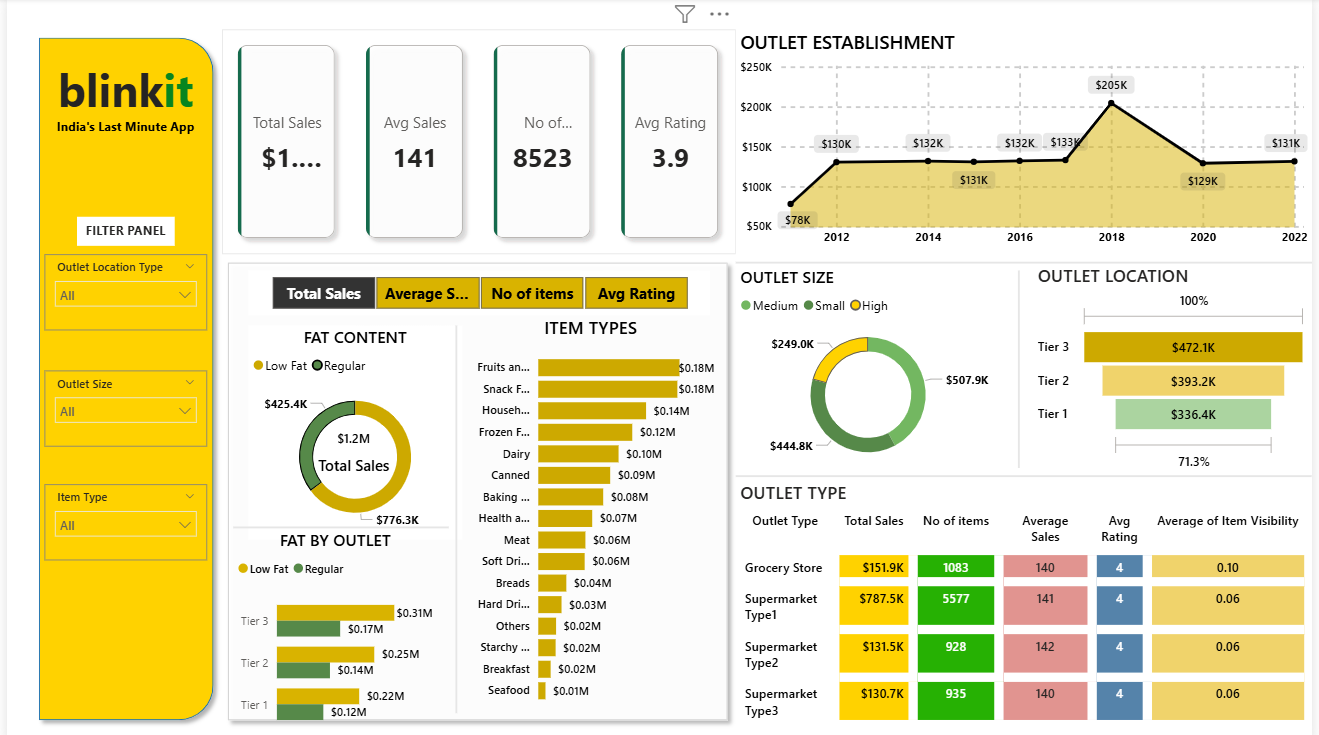

What the dashboard file says about the page in this screenshot:
{"tool":"powerbi","page":{"name":"Page 1","canvas":[1400,800],"ordinal":0},"visuals":[{"type":"shape","box":[25.5,33,205,750],"z":0},{"type":"textbox","box":[40.5,60,174.1,81],"z":1000},{"type":"textbox","box":[40.5,123.1,174.1,34.5],"z":2000},{"type":"cardVisual","fields":{"Data":["BlinkIT Grocery Data.Total Sales","BlinkIT Grocery Data.Average Sales","BlinkIT Grocery Data.No of items","BlinkIT Grocery Data.Avg Rating"]},"box":[231.1,33,550.8,241.6],"z":3000},{"type":"shape","box":[228.1,274.7,553.8,508.8],"z":4000},{"type":"donutChart","title":"FAT CONTENT","fields":{"Y":["BlinkIT Grocery Data.Total Sales"],"Category":["BlinkIT Grocery Data.Item Fat Content"]},"box":[258.1,351.2,229.6,229.6],"z":5000},{"type":"slicer","fields":{"Values":["Metrics.Metrics"]},"box":[258.1,292.7,495.3,48],"z":6000},{"type":"card","fields":{"Values":["BlinkIT Grocery Data.Total Sales"]},"box":[327.2,454.8,90.1,63],"z":7000},{"type":"clusteredBarChart","title":"FAT BY OUTLET","fields":{"Y":["BlinkIT Grocery Data.Total Sales"],"Category":["BlinkIT Grocery Data.Outlet Location Type"],"Series":["BlinkIT Grocery Data.Item Fat Content"]},"box":[243.1,570.3,219.1,229.6],"z":8000},{"type":"shape","box":[243.1,555.3,231.1,25.5],"z":9000},{"type":"shape","box":[475.8,351.2,12,415.7],"z":10000},{"type":"barChart","title":"ITEM TYPES","fields":{"Y":["BlinkIT Grocery Data.Total Sales"],"Category":["BlinkIT Grocery Data.Item Type"]},"box":[487.8,340.7,276.2,426.2],"z":11000},{"type":"lineChart","title":"OUTLET ESTABLISHMENT","fields":{"Category":["BlinkIT Grocery Data.Outlet Establishment Year"],"Y":["BlinkIT Grocery Data.Total Sales"]},"box":[781.9,33,618.4,241.6],"z":12000},{"type":"shape","box":[781.9,274.7,618.4,18],"z":13000},{"type":"donutChart","title":"OUTLET SIZE","fields":{"Category":["BlinkIT Grocery Data.Outlet Size"],"Y":["BlinkIT Grocery Data.Total Sales"]},"box":[781.5,286.9,284.2,225.2],"z":14000},{"type":"shape","box":[1079.1,292.2,12.1,211.8],"z":15000},{"type":"funnel","title":"OUTLET LOCATION","fields":{"Category":["BlinkIT Grocery Data.Outlet Location Type"],"Y":["BlinkIT Grocery Data.Total Sales"]},"box":[1100.5,284.2,298.9,227.9],"z":16000},{"type":"shape","box":[781.5,504,618,17.4],"z":17000},{"type":"pivotTable","title":"OUTLET TYPE","fields":{"Rows":["BlinkIT Grocery Data.Outlet Type"],"Values":["BlinkIT Grocery Data.Total Sales","BlinkIT Grocery Data.No of items","BlinkIT Grocery Data.Average Sales","BlinkIT Grocery Data.Avg Rating","Avg(BlinkIT Grocery Data.Item Visibility)"]},"box":[781.5,517.4,618,266.8],"z":18000},{"type":"slicer","fields":{"Values":["BlinkIT Grocery Data.Outlet Location Type"]},"box":[40.2,274.8,174.3,81.8],"z":19000},{"type":"slicer","fields":{"Values":["BlinkIT Grocery Data.Outlet Size"]},"box":[40.2,399.5,174.3,81.8],"z":20000},{"type":"slicer","fields":{"Values":["BlinkIT Grocery Data.Item Type"]},"box":[40.2,521.5,174.3,81.8],"z":21000},{"type":"textbox","box":[75.1,234.6,104.6,30.8],"z":22000}]}

Visuals, with their boxes in screenshot pixels (x1, y1, x2, y2), scaled from the page's 1400x800 canvas onto the 1319x735 screenshot:
shape: {"left": 24, "top": 30, "right": 217, "bottom": 719}
textbox: {"left": 38, "top": 55, "right": 202, "bottom": 130}
textbox: {"left": 38, "top": 113, "right": 202, "bottom": 145}
cardVisual - BlinkIT Grocery Data.Total Sales x BlinkIT Grocery Data.Average Sales: {"left": 218, "top": 30, "right": 737, "bottom": 252}
shape: {"left": 215, "top": 252, "right": 737, "bottom": 720}
"FAT CONTENT" donutChart: {"left": 243, "top": 323, "right": 459, "bottom": 534}
slicer - Metrics.Metrics: {"left": 243, "top": 269, "right": 710, "bottom": 313}
card - BlinkIT Grocery Data.Total Sales: {"left": 308, "top": 418, "right": 393, "bottom": 476}
"FAT BY OUTLET" clusteredBarChart: {"left": 229, "top": 524, "right": 435, "bottom": 734}
shape: {"left": 229, "top": 510, "right": 447, "bottom": 534}
shape: {"left": 448, "top": 323, "right": 460, "bottom": 705}
"ITEM TYPES" barChart: {"left": 460, "top": 313, "right": 720, "bottom": 705}
"OUTLET ESTABLISHMENT" lineChart: {"left": 737, "top": 30, "right": 1318, "bottom": 252}
shape: {"left": 737, "top": 252, "right": 1318, "bottom": 269}
"OUTLET SIZE" donutChart: {"left": 736, "top": 264, "right": 1004, "bottom": 470}
shape: {"left": 1017, "top": 268, "right": 1028, "bottom": 463}
"OUTLET LOCATION" funnel: {"left": 1037, "top": 261, "right": 1318, "bottom": 470}
shape: {"left": 736, "top": 463, "right": 1318, "bottom": 479}
"OUTLET TYPE" pivotTable: {"left": 736, "top": 475, "right": 1318, "bottom": 720}
slicer - BlinkIT Grocery Data.Outlet Location Type: {"left": 38, "top": 252, "right": 202, "bottom": 328}
slicer - BlinkIT Grocery Data.Outlet Size: {"left": 38, "top": 367, "right": 202, "bottom": 442}
slicer - BlinkIT Grocery Data.Item Type: {"left": 38, "top": 479, "right": 202, "bottom": 554}
textbox: {"left": 71, "top": 216, "right": 169, "bottom": 244}
